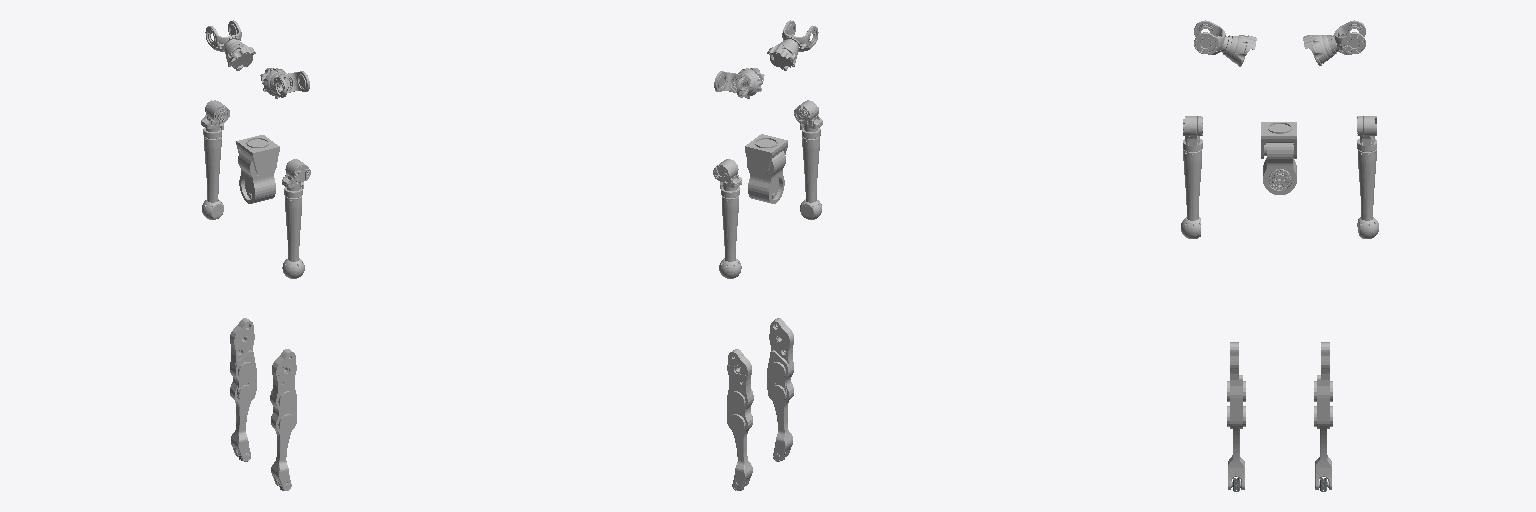
--- What the picture shows (computed from the rendered views, not written in the file) ---
The picture shows the robot from 3 angles, left to right: view 1: azimuth 30°, elevation 25°; view 2: azimuth 150°, elevation 25°; view 3: azimuth 270°, elevation 25°; orthographic projection.
Robot: adam_lite — 28 links, 27 joints (23 revolute, 4 fixed); root link pelvis; default pose: every joint at zero.
Links seen in each view (by area): view 1: shin_Left, shin_Right, wristYawLeft, wristYawRight, waistRoll, waistPitch, elbowRight, elbowLeft, shoulderBaseLeft, shoulderPitchRight, shoulderPitchLeft; view 2: shin_Right, shin_Left, wristYawRight, wristYawLeft, waistRoll, waistPitch, elbowLeft, elbowRight, shoulderBaseRight, shoulderPitchLeft, shoulderPitchRight; view 3: shin_Left, shin_Right, waistRoll, wristYawLeft, wristYawRight, waistPitch, shoulderPitchLeft, shoulderPitchRight, shoulderBaseLeft, shoulderBaseRight, elbowLeft, elbowRight.
Link boxes in pixels (x1=…): shin_Left: x1=230, y1=318, x2=256, y2=461; shin_Right: x1=270, y1=349, x2=296, y2=490; wristYawLeft: x1=202, y1=137, x2=223, y2=219; wristYawRight: x1=282, y1=196, x2=304, y2=278; waistRoll: x1=238, y1=151, x2=277, y2=203; waistPitch: x1=236, y1=135, x2=279, y2=177; elbowRight: x1=282, y1=159, x2=310, y2=197; elbowLeft: x1=201, y1=100, x2=229, y2=138; shoulderBaseLeft: x1=224, y1=39, x2=255, y2=70; shoulderPitchRight: x1=272, y1=71, x2=309, y2=97; shoulderPitchLeft: x1=205, y1=20, x2=241, y2=51; shin_Right: x1=767, y1=318, x2=793, y2=461; shin_Left: x1=727, y1=349, x2=753, y2=490; wristYawRight: x1=800, y1=137, x2=821, y2=219; wristYawLeft: x1=719, y1=196, x2=741, y2=278; waistRoll: x1=747, y1=151, x2=785, y2=203; waistPitch: x1=745, y1=134, x2=787, y2=176; elbowLeft: x1=713, y1=159, x2=741, y2=197; elbowRight: x1=794, y1=100, x2=822, y2=138; shoulderBaseRight: x1=767, y1=39, x2=798, y2=70; shoulderPitchLeft: x1=714, y1=71, x2=751, y2=97; shoulderPitchRight: x1=782, y1=20, x2=818, y2=51; shin_Left: x1=1314, y1=342, x2=1332, y2=489; shin_Right: x1=1227, y1=342, x2=1245, y2=489; waistRoll: x1=1263, y1=143, x2=1296, y2=194; wristYawLeft: x1=1357, y1=149, x2=1378, y2=238; wristYawRight: x1=1181, y1=149, x2=1201, y2=238; waistPitch: x1=1261, y1=122, x2=1296, y2=158; shoulderPitchLeft: x1=1334, y1=20, x2=1365, y2=54; shoulderPitchRight: x1=1194, y1=20, x2=1225, y2=54; shoulderBaseLeft: x1=1303, y1=35, x2=1338, y2=65; shoulderBaseRight: x1=1221, y1=35, x2=1256, y2=66; elbowLeft: x1=1357, y1=116, x2=1376, y2=151; elbowRight: x1=1183, y1=116, x2=1202, y2=151.
Bounding box of the posed robot: 0.101 × 0.5323 × 1.36 m (x, y, z).
14 mesh visuals loaded from 28 distinct referenced files (14 binary STL); not drawn: 14 (reference not matched to a file when rendering).

The robot description file, URDF, robot "adam_lite":
<?xml version="1.0" encoding="utf-8"?>
<!-- This URDF was automatically created by SolidWorks to URDF Exporter! Originally created by Stephen Brawner ([email redacted]) 
     Commit Version: 1.6.0-4-g7f85cfe  Build Version: 1.6.7995.38578
     For more information, please see http://wiki.ros.org/sw_urdf_exporter -->
<robot
  name="adam_lite">
  <link
    name="pelvis">
    <inertial>
      <origin
        xyz="0.000083 0.0 -0.001091"
        rpy="0 0 0" />
      <mass
        value="9.240301" />
      <inertia
        ixx="0.054213"
        ixy="0.000005"
        ixz="0.000024"
        iyy="0.027698"
        iyz="0.000000"
        izz="0.058691" />
    </inertial>
    <visual>
      <origin
        xyz="0 0 0"
        rpy="0 0 0" />
      <geometry>
        <mesh
          filename="../meshes/base.STL" />
      </geometry>
      <material
        name="">
        <color
          rgba="0.752941176470588 0.752941176470588 0.752941176470588 1" />
      </material>
    </visual>
    <collision>
      <origin
        xyz="0.0 0.0 0.0"
        rpy="0.0 0 0" />
      <geometry>
        <mesh filename="../meshes/base.STL"/>
      </geometry>
    </collision>
  </link>
  <link
    name="hipPitchLeft">
    <inertial>
      <origin
        xyz="-0.060710 0.058995 -0.000274"
        rpy="0 0 0" />
      <mass
        value="2.122960" />
      <inertia
        ixx="0.003430"
        ixy="-0.000980"
        ixz="-0.000017"
        iyy="0.004095"
        iyz="0.000026"
        izz="0.004706" />
    </inertial>
    <visual>
      <origin
        xyz="0 0 0"
        rpy="0 0 0" />
      <geometry>
        <mesh
          filename="../meshes/zuotui-kuance.STL" />
      </geometry>
      <material
        name="">
        <color
          rgba="0.752941176470588 0.752941176470588 0.752941176470588 1" />
      </material>
    </visual>
  <collision>
      <origin
        xyz="0.0 0.0 0.0"
        rpy="0.0 0 0" />
      <geometry>
        <mesh filename="../meshes/zuotui-kuance.STL"/>
      </geometry>
    </collision>
  </link>
  <joint
    name="hipPitch_Left"
    type="revolute">
    <origin
      xyz="0 0.096102 -0.027011"
      rpy="-0.61087 0 0" />
    <parent
      link="pelvis" />
    <child
      link="hipPitchLeft" />
    <axis
      xyz="0 1 0" />
    <limit effort="230.0" lower="-2.09" upper="2.09" velocity="15.0"/>
  </joint>
  <link
    name="hipRollLeft">
    <inertial>
      <origin
        xyz="0.039593 -0.000453 -0.010045"
        rpy="0 0 0" />
      <mass
        value="1.302398" />
      <inertia
        ixx="0.001122"
        ixy="-0.000001"
        ixz="-0.000076"
        iyy="0.001194"
        iyz="-0.000015"
        izz="0.001338" />
    </inertial>
    <visual>
      <origin
        xyz="0 0 0"
        rpy="0 0 0" />
      <geometry>
        <mesh
          filename="../meshes/zuotui-kuanzhuan.STL" />
      </geometry>
      <material
        name="">
        <color
          rgba="0.752941176470588 0.752941176470588 0.752941176470588 1" />
      </material>
    </visual>
  <collision>
      <origin
        xyz="0.0 0.0 0.0"
        rpy="0.0 0 0" />
      <geometry>
        <mesh filename="../meshes/zuotui-kuanzhuan.STL"/>
      </geometry>
    </collision>
  </link>
  <joint
    name="hipRoll_Left"
    type="revolute">
    <origin
      xyz="-0.0255 0.069 0"
      rpy="0.61087 0 0" />
    <parent
      link="hipPitchLeft" />
    <child
      link="hipRollLeft" />
    <axis
      xyz="1 0 0" />
    <limit effort="160.0" lower="-0.78" upper="1.57" velocity="8.0"/>
  </joint>
  <link
    name="thigh_Left">
    <inertial>
      <origin
        xyz="0.003802 -0.008180 -0.130931"
        rpy="0 0 0" />
      <mass
        value="6.098905" />
      <inertia
        ixx="0.051840"
        ixy="-0.000234"
        ixz="-0.000840"
        iyy="0.057183"
        iyz="0.005427"
        izz="0.012216" />
    </inertial>
    <visual>
      <origin
        xyz="0 0 0"
        rpy="0 0 0" />
      <geometry>
        <mesh
          filename="../meshes/zuotui-datui.STL" />
      </geometry>
      <material
        name="">
        <color
          rgba="0.752941176470588 0.752941176470588 0.752941176470588 1" />
      </material>
    </visual>
  <collision>
      <origin
        xyz="0.0 0.0 0.0"
        rpy="0.0 0 0" />
      <geometry>
        <mesh filename="../meshes/zuotui-datui.STL"/>
      </geometry>
    </collision>
  </link>
  <joint
    name="hipYaw_Left"
    type="revolute">
    <origin
      xyz="0.044 0 -0.0525"
      rpy="0 0 0" />
    <parent
      link="hipRollLeft" />
    <child
      link="thigh_Left" />
    <axis
      xyz="0 0 1" />
    <limit effort="105" lower="-0.78" upper="0.78" velocity="8.0"/>
  </joint>
  <link
    name="shin_Left">
    <inertial>
      <origin
        xyz="0.000004 0.000631 -0.145751"
        rpy="0 0 0" />
      <mass
        value="2.240625" />
      <inertia
        ixx="0.023481"
        ixy="-0.000020"
        ixz="0.000210"
        iyy="0.023543"
        iyz="0.000576"
        izz="0.001345" />
    </inertial>
    <visual>
      <origin
        xyz="0 0 0"
        rpy="0 0 0" />
      <geometry>
        <mesh
          filename="../meshes/zuotui-xiaotui.STL" />
      </geometry>
      <material
        name="">
        <color
          rgba="0.752941176470588 0.752941176470588 0.752941176470588 1" />
      </material>
    </visual>
    <collision>
      <origin
        xyz="0.0 0.0 0.0"
        rpy="0.0 0 0" />
      <geometry>
        <mesh filename="../meshes/zuotui-xiaotui.STL"/>
      </geometry>
    </collision>
  </link>
  <joint
    name="kneePitch_Left"
    type="revolute">
    <origin
      xyz="0 -0.0355 -0.369"
      rpy="0 0 0" />
    <parent
      link="thigh_Left" />
    <child
      link="shin_Left" />
    <axis
      xyz="0 1 0" />
    <limit effort="230.0" lower="-0.09" upper="2.4" velocity="15.0"/>
  </joint>
  <link
    name="footLeftY">
    <inertial>
      <origin
        xyz="0 0 0"
        rpy="0 0 0" />
      <mass
        value="0.052131" />
      <inertia
        ixx="0.000005"
        ixy="0"
        ixz="0"
        iyy="0.000005"
        iyz="0"
        izz="0.000004" />
    </inertial>
    <visual>
      <origin
        xyz="0 0 0"
        rpy="0 0 0" />
      <geometry>
        <mesh
          filename="../meshes/zuotui-huaiqianbai.STL" />
      </geometry>
      <material
        name="">
        <color
          rgba="0.529411764705882 0.549019607843137 0.549019607843137 1" />
      </material>
    </visual>
  <collision>
      <origin
        xyz="0.0 0.0 0.0"
        rpy="0.0 0 0" />
      <geometry>
        <mesh filename="../meshes/zuotui-huaiqianbai.STL"/>
      </geometry>
    </collision>
  </link>
  <joint
    name="anklePitch_Left"
    type="revolute">
    <origin
      xyz="0 0 -0.37"
      rpy="0 0 0" />
    <parent
      link="shin_Left" />
    <child
      link="footLeftY" />
    <axis
      xyz="0 1 0" />
    <limit effort="40.0" lower="-1.0" upper="0.35" velocity="20.0"/>
  </joint>
  <link
    name="toe_left">
    <inertial>
      <origin
        xyz="0.052656 0.117093 -0.900329"
        rpy="0 0 0" />
      <mass
        value="0.436113" />
      <inertia
        ixx="0.000297"
        ixy="0.000013"
        ixz="-0.000137"
        iyy="0.001513"
        iyz="0.000001"
        izz="0.001542" />
    </inertial>
    <visual>
      <origin
        xyz="0 0 0"
        rpy="0 0 0" />
      <geometry>
        <mesh
          filename="../meshes/toe_Left.STL" />
      </geometry>
      <material
        name="">
        <color
          rgba="0.752941176470588 0.752941176470588 0.752941176470588 1" />
      </material>
    </visual>
    <collision name="toe_left">
      <origin rpy="0 0 0" xyz="0.047 0.0 -0.05"/>
      <geometry>
        <box size="0.24 0.1 0.03"/>
      </geometry>
    </collision>
  </link>
  <joint
    name="ankleRoll_Left"
    type="revolute">
    <origin
      xyz="0 0 0"
      rpy="0 0 0" />
    <parent
      link="footLeftY" />
    <child
      link="toe_left" />
    <axis
      xyz="1 0 0" />
    <limit effort="12.0" lower="-0.3491" upper="0.3491" velocity="20.0"/>
  </joint>
  <link
    name="hipPitchRight">
    <inertial>
      <origin
        xyz="-0.060710 -0.058995 -0.000274"
        rpy="0 0 0" />
      <mass
        value="2.122960" />
      <inertia
        ixx="0.003430"
        ixy="0.000980"
        ixz="-0.000017"
        iyy="0.004095"
        iyz="-0.000026"
        izz="0.004706" />
    </inertial>
    <visual>
      <origin
        xyz="0 0 0"
        rpy="0 0 0" />
      <geometry>
        <mesh
          filename="../meshes/youtui-kuance.STL" />
      </geometry>
      <material
        name="">
        <color
          rgba="0.752941176470588 0.752941176470588 0.752941176470588 1" />
      </material>
    </visual>
  <collision>
      <origin
        xyz="0.0 0.0 0.0"
        rpy="0.0 0 0" />
      <geometry>
        <mesh filename="../meshes/youtui-kuance.STL"/>
      </geometry>
    </collision>
  </link>
  <joint
    name="hipPitch_Right"
    type="revolute">
    <origin
      xyz="0 -0.096102 -0.027011"
      rpy="0.61087 0 0" />
    <parent
      link="pelvis" />
    <child
      link="hipPitchRight" />
    <axis
      xyz="0 1 0" />
    <limit effort="230.0" lower="-2.09" upper="2.09" velocity="15.0"/>
  </joint>
  <link
    name="hipRollRight">
    <inertial>
      <origin
        xyz="0.039593 0.000453 -0.010045"
        rpy="0 0 0" />
      <mass
        value="1.302398" />
      <inertia
        ixx="0.001122"
        ixy="0.000001"
        ixz="-0.000076"
        iyy="0.001194"
        iyz="0.000015"
        izz="0.001338" />
    </inertial>
    <visual>
      <origin
        xyz="0 0 0"
        rpy="0 0 0" />
      <geometry>
        <mesh
          filename="../meshes/youtui-kuanzhuan.STL" />
      </geometry>
      <material
        name="">
        <color
          rgba="0.752941176470588 0.752941176470588 0.752941176470588 1" />
      </material>
    </visual>
  <collision>
      <origin
        xyz="0.0 0.0 0.0"
        rpy="0.0 0 0" />
      <geometry>
        <mesh filename="../meshes/youtui-kuanzhuan.STL"/>
      </geometry>
    </collision>
  </link>
  <joint
    name="hipRoll_Right"
    type="revolute">
    <origin
      xyz="-0.0255 -0.069 0"
      rpy="-0.61087 0 0" />
    <parent
      link="hipPitchRight" />
    <child
      link="hipRollRight" />
    <axis
      xyz="1 0 0" />
    <limit effort="160.0" lower="-1.57" upper="0.78" velocity="8.0"/>
  </joint>
  <link
    name="thigh_Right">
    <inertial>
      <origin
        xyz="0.003802 0.008180 -0.130931"
        rpy="0 0 0" />
      <mass
        value="6.098905" />
      <inertia
        ixx="0.051840"
        ixy="0.000234"
        ixz="-0.000840"
        iyy="0.057183"
        iyz="-0.005427"
        izz="0.012216" />
    </inertial>
    <visual>
      <origin
        xyz="0 -0.003 0"
        rpy="0 0 0" />
      <geometry>
        <mesh
          filename="../meshes/youtui-datui.STL" />
      </geometry>
      <material
        name="">
        <color
          rgba="0.752941176470588 0.752941176470588 0.752941176470588 1" />
      </material>
    </visual>
  <collision>
      <origin
        xyz="0.0 -0.003 0.0"
        rpy="0.0 0 0" />
      <geometry>
        <mesh filename="../meshes/youtui-datui.STL"/>
      </geometry>
    </collision>
  </link>
  <joint
    name="hipYaw_Right"
    type="revolute">
    <origin
      xyz="0.044 0.0 -0.0525"
      rpy="0 0 0" />
    <parent
      link="hipRollRight" />
    <child
      link="thigh_Right" />
    <axis
      xyz="0 0 1" />
    <limit effort="105" lower="-0.78" upper="0.78" velocity="8.0"/>
  </joint>
  <link
    name="shin_Right">
    <inertial>
      <origin
        xyz="0.000004 -0.000631 -0.145751"
        rpy="0 0 0" />
      <mass
        value="2.240625" />
      <inertia
        ixx="0.023481"
        ixy="0.000020"
        ixz="0.000210"
        iyy="0.023543"
        iyz="-0.000576"
        izz="0.001345" />
    </inertial>
    <visual>
      <origin
        xyz="0 0 0"
        rpy="0 0 0" />
      <geometry>
        <mesh
          filename="../meshes/youtui-xiaotui.STL" />
      </geometry>
      <material
        name="">
        <color
          rgba="0.752941176470588 0.752941176470588 0.752941176470588 1" />
      </material>
    </visual>
    <collision>
      <origin
        xyz="0.0 0.0 0.0"
        rpy="0.0 0 0" />
      <geometry>
        <mesh filename="../meshes/youtui-xiaotui.STL"/>
      </geometry>
    </collision>
  </link>
  <joint
    name="kneePitch_Right"
    type="revolute">
    <origin
      xyz="0 0.0355 -0.369"
      rpy="0 0 0" />
    <parent
      link="thigh_Right" />
    <child
      link="shin_Right" />
    <axis
      xyz="0 1 0" />
    <limit effort="230.0" lower="-0.09" upper="2.4" velocity="15.0"/>
  </joint>
  <link
    name="footRightY">
    <inertial>
      <origin
        xyz="0 0 0"
        rpy="0 0 0" />
      <mass
        value="0.052131" />
      <inertia
        ixx="0.000005"
        ixy="0"
        ixz="0"
        iyy="0.000005"
        iyz="0"
        izz="0.000004" />
    </inertial>
    <visual>
      <origin
        xyz="0 0 0"
        rpy="0 0 0" />
      <geometry>
        <mesh
          filename="../meshes/footRightY.STL" />
      </geometry>
      <material
        name="">
        <color
          rgba="0.529411764705882 0.549019607843137 0.549019607843137 1" />
      </material>
    </visual>
  </link>
  <joint
    name="anklePitch_Right"
    type="revolute">
    <origin
      xyz="0 0 -0.37"
      rpy="0 0 0" />
    <parent
      link="shin_Right" />
    <child
      link="footRightY" />
    <axis
      xyz="0 1 0" />
    <limit effort="40.0" lower="-1.0" upper="0.35" velocity="20.0"/>
  </joint>
  <link
    name="toe_right">
    <inertial>
      <origin
        xyz="0.052656 -0.117093 -0.900329"
        rpy="0 0 0" />
      <mass
        value="0.436113" />
      <inertia
        ixx="0.000297"
        ixy="-0.000013"
        ixz="-0.000137"
        iyy="0.001513"
        iyz="-0.000001"
        izz="0.001542" />
    </inertial>
    <visual>
      <origin
        xyz="0 0 0"
        rpy="0 0 0" />
      <geometry>
        <mesh
          filename="../meshes/toe_right.STL" />
      </geometry>
      <material
        name="">
        <color
          rgba="0.752941176470588 0.752941176470588 0.752941176470588 1" />
      </material>
    </visual>
    <collision name="toe_right">
      <origin rpy="0 0 0" xyz="0.047 0.0 -0.05"/>
      <geometry>
        <box size="0.24 0.1 0.03"/>
      </geometry>
    </collision>
  </link>
  <joint
    name="ankleRoll_Right"
    type="revolute">
    <origin
      xyz="0 0 0"
      rpy="0 0 0" />
    <parent
      link="footRightY" />
    <child
      link="toe_right" />
    <axis
      xyz="1 0 0" />
    <limit effort="12.0" lower="-0.3491" upper="0.3491" velocity="20.0"/>
  </joint>
  <link
    name="waistRoll">
    <inertial>
      <origin
        xyz="0.001521 0.001495 0.039984"
        rpy="0 0 0" />
      <mass
        value="2.50" />
      <inertia
        ixx="0.006751"
        ixy="-0.000006"
        ixz="-0.000148"
        iyy="0.006755"
        iyz="0.000153"
        izz="0.002476" />
    </inertial>
    <visual>
      <origin
        xyz="0 0 0"
        rpy="0 0 0" />
      <geometry>
        <mesh
          filename="../meshes/yaocebai.STL" />
      </geometry>
      <material
        name="">
        <color
          rgba="0.752941176470588 0.752941176470588 0.752941176470588 1" />
      </material>
    </visual>
  <collision>
      <origin
        xyz="0.0 0.0 0.0"
        rpy="0 0 0" />
      <geometry>
        <mesh
          filename="../meshes/yaocebai.STL" />
      </geometry>
    </collision>
  </link>
  <joint
    name="waistRoll"
    type="revolute">
    <origin
      xyz="0 0 0.05023"
      rpy="0 0 0" />
    <parent
      link="pelvis" />
    <child
      link="waistRoll" />
    <axis
      xyz="1 0 0" />
    <limit effort="110" lower="-0.52" upper="0.52" velocity="8.0"/>
  </joint>
  <link
    name="waistPitch">
    <inertial>
      <origin
        xyz="0.0 -0.003646 0.029114"
        rpy="0 0 0" />
      <mass
        value="0.654478" />
      <inertia
        ixx="0.001170"
        ixy="0.0"
        ixz="0.0"
        iyy="0.000774"
        iyz="0.000039"
        izz="0.001207" />
    </inertial>
    <visual>
      <origin
        xyz="0 0 0"
        rpy="0 0 0" />
      <geometry>
        <mesh
          filename="../meshes/yaoqianbai.STL" />
      </geometry>
      <material
        name="">
        <color
          rgba="0.752941176470588 0.752941176470588 0.752941176470588 1" />
      </material>
    </visual>
  <collision>
      <origin
        xyz="0.0 0.0 0.0"
        rpy="0 0 0" />
      <geometry>
        <mesh
          filename="../meshes/yaoqianbai.STL" />
      </geometry>
    </collision>
  </link>
  <joint
    name="waistPitch"
    type="revolute">
    <origin
      xyz="0 0 0.08"
      rpy="0 0 0" />
    <parent
      link="waistRoll" />
    <child
      link="waistPitch" />
    <axis
      xyz="0 1 0" />
    <limit effort="110" lower="-0.78" upper="0.78" velocity="8.0"/>
  </joint>
  <link
    name="torso">
    <inertial>
      <origin
        xyz="0.005122 -0.000038 0.155343"
        rpy="0 0 0" />
      <mass
        value="10.0" />
      <inertia
        ixx="0.119619"
        ixy="-0.000021"
        ixz="-0.006001"
        iyy="0.099507"
        iyz="-0.000007"
        izz="0.063623" />
    </inertial>
    <visual>
      <origin
        xyz="0 0 0"
        rpy="0 0 0" />
      <geometry>
        <mesh
          filename="../meshes/torso.STL" />
      </geometry>
      <material
        name="">
        <color
          rgba="0.43921568627451 0.43921568627451 0.43921568627451 1" />
      </material>
    </visual>
    <collision>
      <origin
        xyz="0.0 0.0 0.0035"
        rpy="0 0 0" />
      <geometry>
        <mesh
          filename="../meshes/xiongqiang.STL" />
      </geometry>
    </collision>
  </link>
  <joint
    name="waistYaw"
    type="revolute">
    <origin
      xyz="0 0 0.056115"
      rpy="0 0 0" />
    <parent
      link="waistPitch" />
    <child
      link="torso" />
    <axis
      xyz="0 0 1" />
    <limit effort="110" lower="-0.78" upper="0.78" velocity="8.0"/>
  </joint>
  <link
    name="shoulderBaseLeft">
    <inertial>
      <origin
        xyz="-0.001056 0.028803 0.000067"
        rpy="0 0 0" />
      <mass
        value="0.70" />
      <inertia
        ixx="0.000503"
        ixy="-0.000016"
        ixz="0.000001"
        iyy="0.000449"
        iyz="-0.000030"
        izz="0.000496" />
    </inertial>
    <visual>
      <origin
        xyz="0 0 0"
        rpy="0 0 0" />
      <geometry>
        <mesh
          filename="../meshes/zuobidizuo.STL" />
      </geometry>
      <material
        name="">
        <color
          rgba="0.752941176470588 0.752941176470588 0.752941176470588 1" />
      </material>
    </visual>
  <collision>
      <origin
        xyz="0.0 0.0 0.0"
        rpy="0 0 0" />
      <geometry>
        <mesh
          filename="../meshes/zuobidizuo.STL" />
      </geometry>
    </collision>
  </link>
  <joint
    name="shoulderBase_Left"
    type="fixed">
    <origin
      xyz="0.0020109 0.090449 0.23022"
      rpy="0.34907 0 0" />
    <parent
      link="torso" />
    <child
      link="shoulderBaseLeft" />
    <axis
      xyz="0 0 0" />
  </joint>
  <link
    name="shoulderPitchLeft">
    <inertial>
      <origin
        xyz="-0.00147856291704427 0.0312404594249897 0.000194586620615556"
        rpy="0 0 0" />
      <mass
        value="0.222453128267368" />
      <inertia
        ixx="0.000175"
        ixy="-0.000004"
        ixz="-0.000001"
        iyy="0.000328"
        iyz="0.000001"
        izz="0.000380" />
    </inertial>
    <visual>
      <origin
        xyz="0 0 0"
        rpy="0 0 0" />
      <geometry>
        <mesh
          filename="../meshes/zuo1.STL" />
      </geometry>
      <material
        name="">
        <color
          rgba="0.752941176470588 0.752941176470588 0.752941176470588 1" />
      </material>
    </visual>
  <collision>
      <origin
        xyz="0.0 0.0 0.0"
        rpy="0 0 0" />
      <geometry>
        <mesh
          filename="../meshes/zuo1.STL" />
      </geometry>
    </collision>
  </link>
  <joint
    name="shoulderPitch_Left"
    type="revolute">
    <origin
      xyz="-0.0020109 0.0717 -0.0011968"
      rpy="0 0 0" />
    <parent
      link="shoulderBaseLeft" />
    <child
      link="shoulderPitchLeft" />
    <axis
      xyz="0 1 0" />
    <limit effort="65.0" lower="-2.7" upper="1.0" velocity="8.0"/>
  </joint>
  <link
    name="shoulderRollLeft">
    <inertial>
      <origin
        xyz="-0.030453 0.010582 -0.014137"
        rpy="0 0 0" />
      <mass
        value="0.6" />
      <inertia
        ixx="0.000749"
        ixy="-0.000006"
        ixz="0.000013"
        iyy="0.000596"
        iyz="-0.000202"
        izz="0.000494" />
    </inertial>
    <visual>
      <origin
        xyz="0 0 0"
        rpy="0 0 0" />
      <geometry>
        <mesh
          filename="../meshes/zuo2.STL" />
      </geometry>
      <material
        name="">
        <color
          rgba="0.752941176470588 0.752941176470588 0.752941176470588 1" />
      </material>
    </visual>
    <collision>
      <origin
        xyz="0.0 0.0 0.0"
        rpy="0 0 0" />
      <geometry>
        <mesh
          filename="../meshes/zuo2.STL" />
      </geometry>
    </collision>
  </link>
  <joint
    name="shoulderRoll_Left"
    type="revolute">
    <origin
      xyz="0.0335 0.044 0"
      rpy="-0.34907 0 0" />
    <parent
      link="shoulderPitchLeft" />
    <child
      link="shoulderRollLeft" />
    <axis
      xyz="1 0 0" />
    <limit effort="65.0" lower="-0.3" upper="3.14" velocity="8.0"/> 
  </joint>
  <link
    name="shoulderYawLeft">
    <inertial>
      <origin
        xyz="-0.000951633773749558 -0.000636479898313447 -0.0979643093792619"
        rpy="0 0 0" />
      <mass
        value="0.853573592139701" />
      <inertia
        ixx="0.004701"
        ixy="-0.000001"
        ixz="0.000074"
        iyy="0.004533"
        iyz="0.000061"
        izz="0.000562" />
    </inertial>
    <visual>
      <origin
        xyz="0 0 0"
        rpy="0 0 0" />
      <geometry>
        <mesh
          filename="../meshes/zuo3.STL" />
      </geometry>
      <material
        name="">
        <color
          rgba="0.752941176470588 0.752941176470588 0.752941176470588 1" />
      </material>
    </visual>
    <collision>
      <origin
        xyz="0.0 0.0 0.0"
        rpy="0 0 0" />
      <geometry>
        <mesh
          filename="../meshes/zuo3.STL" />
      </geometry>
    </collision>
  </link>
  <joint
    name="shoulderYaw_Left"
    type="revolute">
    <origin
      xyz="-0.0335 0.034081 -0.059"
      rpy="0 0 0" />
    <parent
      link="shoulderRollLeft" />
    <child
      link="shoulderYawLeft" />
    <axis
      xyz="0 0 1" />
    <limit effort="65.0" lower="-1.6" upper="1.6" velocity="8.0"/>
  </joint>
  <link
    name="elbowLeft">
    <inertial>
      <origin
        xyz="-0.00410192417538807 0.0270255372034407 -0.0125478950788627"
        rpy="0 0 0" />
      <mass
        value="0.6" />
      <inertia
        ixx="0.000490"
        ixy="-0.000003"
        ixz="0.000074"
        iyy="0.000517"
        iyz="-0.000009"
        izz="0.000266" />
    </inertial>
    <visual>
      <origin
        xyz="0 0 0"
        rpy="0 0 0" />
      <geometry>
        <mesh
          filename="../meshes/zuo4.STL" />
      </geometry>
      <material
        name="">
        <color
          rgba="0.752941176470588 0.752941176470588 0.752941176470588 1" />
      </material>
    </visual>
    <collision>
      <origin
        xyz="0.0 0.0 0.0"
        rpy="0 0 0" />
      <geometry>
        <mesh
          filename="../meshes/zuo4.STL" />
      </geometry>
    </collision>
  </link>
  <joint
    name="elbow_Left"
    type="revolute">
    <origin
      xyz="0 -0.0285 -0.20365"
      rpy="0 0 0" />
    <parent
      link="shoulderYawLeft" />
    <child
      link="elbowLeft" />
    <axis
      xyz="0 1 0" />
    <limit effort="30.0" lower="-2.0" upper="0.0" velocity="8.0"/>
  </joint>
  <link
    name="wristYawLeft">
    <inertial>
      <origin
        xyz="-0.000012 0.000792 -0.146497"
        rpy="0 0 0" />
      <mass
        value="0.276361" />
      <inertia
        ixx="0.002248"
        ixy="-0.000000"
        ixz="0.000000"
        iyy="0.002253"
        iyz="-0.000019"
        izz="0.000105" />
    </inertial>
    <visual>
      <origin
        xyz="0 0 0"
        rpy="0 0 0" />
      <geometry>
        <mesh
          filename="../meshes/forearmLeft.STL" />
      </geometry>
      <material
        name="">
        <color
          rgba="0.752941176470588 0.752941176470588 0.752941176470588 1" />
      </material>
    </visual>
    <collision>
      <origin
        xyz="0 0 -0.11"
        rpy="0 0 0" />
      <geometry>
        <cylinder length="0.32" radius="0.035"/>
      </geometry>
    </collision>
  </link>
  <joint
    name="wristYaw_Left"
    type="fixed">
    <origin
      xyz="-0.0150000000000083 0.0285000000000339 -0.0734000000000177"
      rpy="0 0 0" />
    <parent
      link="elbowLeft" />
    <child
      link="wristYawLeft" />
    <axis
      xyz="0 0 1" />
  </joint>
  <link
    name="shoulderBaseRight">
    <inertial>
      <origin
        xyz="-0.001056 -0.028803 0.000067"
        rpy="0 0 0" />
      <mass
        value="0.70" />
      <inertia
        ixx="0.000503"
        ixy="0.000016"
        ixz="0.000001"
        iyy="0.000449"
        iyz="0.000030"
        izz="0.000496" />
    </inertial>
    <visual>
      <origin
        xyz="0 0 0"
        rpy="0 0 0" />
      <geometry>
        <mesh
          filename="../meshes/youbidizuo.STL" />
      </geometry>
      <material
        name="">
        <color
          rgba="0.752941176470588 0.752941176470588 0.752941176470588 1" />
      </material>
    </visual>
    <collision>
      <origin
        xyz="0.0 0.0 0.0"
        rpy="0 0 0" />
      <geometry>
        <mesh
          filename="../meshes/youbidizuo.STL" />
      </geometry>
    </collision>
  </link>
  <joint
    name="shoulderBase_Right"
    type="fixed">
    <origin
      xyz="0.0020109 -0.090449 0.23022"
      rpy="-0.34907 0 0" />
    <parent
      link="torso" />
    <child
      link="shoulderBaseRight" />
    <axis
      xyz="0 0 0" />
  </joint>
  <link
    name="shoulderPitchRight">
    <inertial>
      <origin
        xyz="-0.00147856291704427 -0.0312404594249897 0.000194586620615556"
        rpy="0 0 0" />
      <mass
        value="0.222453128267368" />
      <inertia
        ixx="0.000175"
        ixy="0.000004"
        ixz="-0.000001"
        iyy="0.000328"
        iyz="-0.000001"
        izz="0.000380" />
    </inertial>
    <visual>
      <origin
        xyz="0 0 0"
        rpy="0 0 0" />
      <geometry>
        <mesh
          filename="../meshes/you1.STL" />
      </geometry>
      <material
        name="">
        <color
          rgba="0.752941176470588 0.752941176470588 0.752941176470588 1" />
      </material>
    </visual>
    <collision>
      <origin
        xyz="0.0 0.0 0.0"
        rpy="0 0 0" />
      <geometry>
        <mesh
          filename="../meshes/you1.STL" />
      </geometry>
    </collision>
  </link>
  <joint
    name="shoulderPitch_Right"
    type="revolute">
    <origin
      xyz="-0.0020109 -0.0717 -0.0011968"
      rpy="0 0 0" />
    <parent
      link="shoulderBaseRight" />
    <child
      link="shoulderPitchRight" />
    <axis
      xyz="0 1 0" />
    <limit effort="65.0" lower="-2.7" upper="1.1" velocity="8.0"/>
  </joint>
  <link
    name="shoulderRollRight">
    <inertial>
      <origin
        xyz="-0.030453 -0.010582 -0.014137"
        rpy="0 0 0" />
      <mass
        value="0.6" />
      <inertia
        ixx="0.000749"
        ixy="0.000006"
        ixz="0.000013"
        iyy="0.000596"
        iyz="0.000202"
        izz="0.000494" />
    </inertial>
    <visual>
      <origin
        xyz="0 0 0"
        rpy="0 0 0" />
      <geometry>
        <mesh
          filename="../meshes/you2.STL" />
      </geometry>
      <material
        name="">
        <color
          rgba="0.752941176470588 0.752941176470588 0.752941176470588 1" />
      </material>
    </visual>
    <collision>
      <origin
        xyz="0.0 0.0 0.0"
        rpy="0 0 0" />
      <geometry>
        <mesh
          filename="../meshes/you2.STL" />
      </geometry>
    </collision>
  </link>
  <joint
    name="shoulderRoll_Right"
    type="revolute">
    <origin
      xyz="0.0335 -0.044 0"
      rpy="0.34907 0 0" />
    <parent
      link="shoulderPitchRight" />
    <child
      link="shoulderRollRight" />
    <axis
      xyz="1 0 0" />
    <limit effort="65.0" lower="-3.14" upper="0.3" velocity="8.0"/>
  </joint>
  <link
    name="shoulderYawRight">
    <inertial>
      <origin
        xyz="-0.000951633773749558 0.000636479898313447 -0.0979643093792619"
        rpy="0 0 0" />
      <mass
        value="0.853573592139701" />
      <inertia
        ixx="0.004701"
        ixy="0.000001"
        ixz="0.000074"
        iyy="0.004533"
        iyz="-0.000061"
        izz="0.000562" />
    </inertial>
    <visual>
      <origin
        xyz="0 0 0"
        rpy="0 0 0" />
      <geometry>
        <mesh
          filename="../meshes/you3.STL" />
      </geometry>
      <material
        name="">
        <color
          rgba="0.752941176470588 0.752941176470588 0.752941176470588 1" />
      </material>
    </visual>
    <collision>
      <origin
        xyz="0.0 0.0 0.0"
        rpy="0 0 0" />
      <geometry>
        <mesh
          filename="../meshes/you3.STL" />
      </geometry>
    </collision>
  </link>
  <joint
    name="shoulderYaw_Right"
    type="revolute">
    <origin
      xyz="-0.0335 -0.034081 -0.059"
      rpy="0 0 0" />
    <parent
      link="shoulderRollRight" />
    <child
      link="shoulderYawRight" />
    <axis
      xyz="0 0 1" />
    <limit effort="65.0" lower="-1.6" upper="1.6" velocity="8.0"/>
  </joint>
  <link
    name="elbowRight">
    <inertial>
      <origin
        xyz="-0.00410192417538807 -0.0270255372034407 -0.0125478950788627"
        rpy="0 0 0" />
      <mass
        value="0.6" />
      <inertia
        ixx="0.000490"
        ixy="0.000003"
        ixz="0.000074"
        iyy="0.000517"
        iyz="0.000009"
        izz="0.000266" />
    </inertial>
    <visual>
      <origin
        xyz="0 0 0"
        rpy="0 0 0" />
      <geometry>
        <mesh
          filename="../meshes/elbowRight.STL" />
      </geometry>
      <material
        name="">
        <color
          rgba="0.752941176470588 0.752941176470588 0.752941176470588 1" />
      </material>
    </visual>
    <collision>
      <origin
        xyz="0.0 -0.03 0.0"
        rpy="1.5708 0 0" />
      <geometry>
        <cylinder length="0.08" radius="0.035"/>
      </geometry>
    </collision>
  </link>
  <joint
    name="elbow_Right"
    type="revolute">
    <origin
      xyz="0 0.0285 -0.20365"
      rpy="0 0 0" />
    <parent
      link="shoulderYawRight" />
    <child
      link="elbowRight" />
    <axis
      xyz="0 1 0" />
    <limit effort="30.0" lower="-2.0" upper="0.0" velocity="8.0"/>
  </joint>
  <link
    name="wristYawRight">
    <inertial>
      <origin
        xyz="-0.000012 -0.000792 -0.146497"
        rpy="0 0 0" />
      <mass
        value="0.276361" />
      <inertia
        ixx="0.002248"
        ixy="0.000000"
        ixz="0.000000"
        iyy="0.002253"
        iyz="0.000019"
        izz="0.000105" />
    </inertial>
    <visual>
      <origin
        xyz="0 0 0"
        rpy="0 0 0" />
      <geometry>
        <mesh
          filename="../meshes/forearmRight.STL" />
      </geometry>
      <material
        name="">
        <color
          rgba="0.752941176470588 0.752941176470588 0.752941176470588 1" />
      </material>
    </visual>
    <collision>
      <origin
        xyz="0 0 -0.11"
        rpy="0 0 0" />
      <geometry>
        <cylinder length="0.32" radius="0.035"/>
      </geometry>
    </collision>
  </link>
  <joint
    name="wristYaw_Right"
    type="fixed">
    <origin
      xyz="-0.0149999999999991 -0.0285000000000092 -0.0733999999999902"
      rpy="0 0 0" />
    <parent
      link="elbowRight" />
    <child
      link="wristYawRight" />
    <axis
      xyz="0 0 1" />
  </joint>
</robot>
